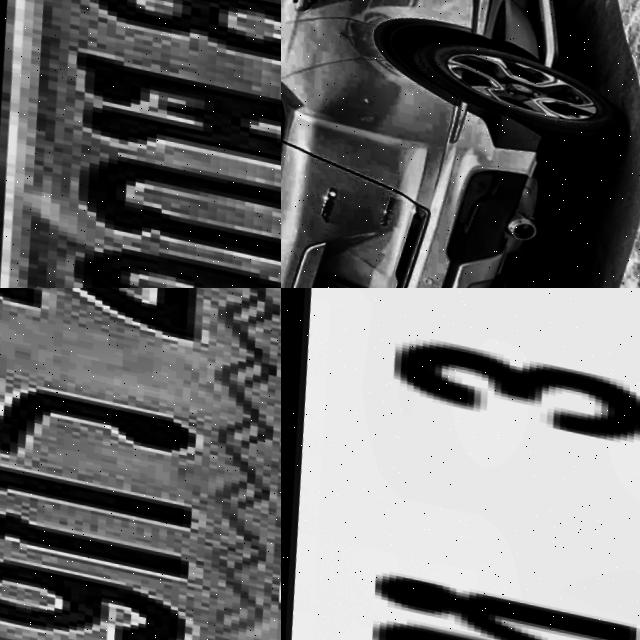license-plate: (281, 288, 640, 640), (0, 288, 281, 640), (0, 0, 281, 288), (281, 258, 376, 288)
